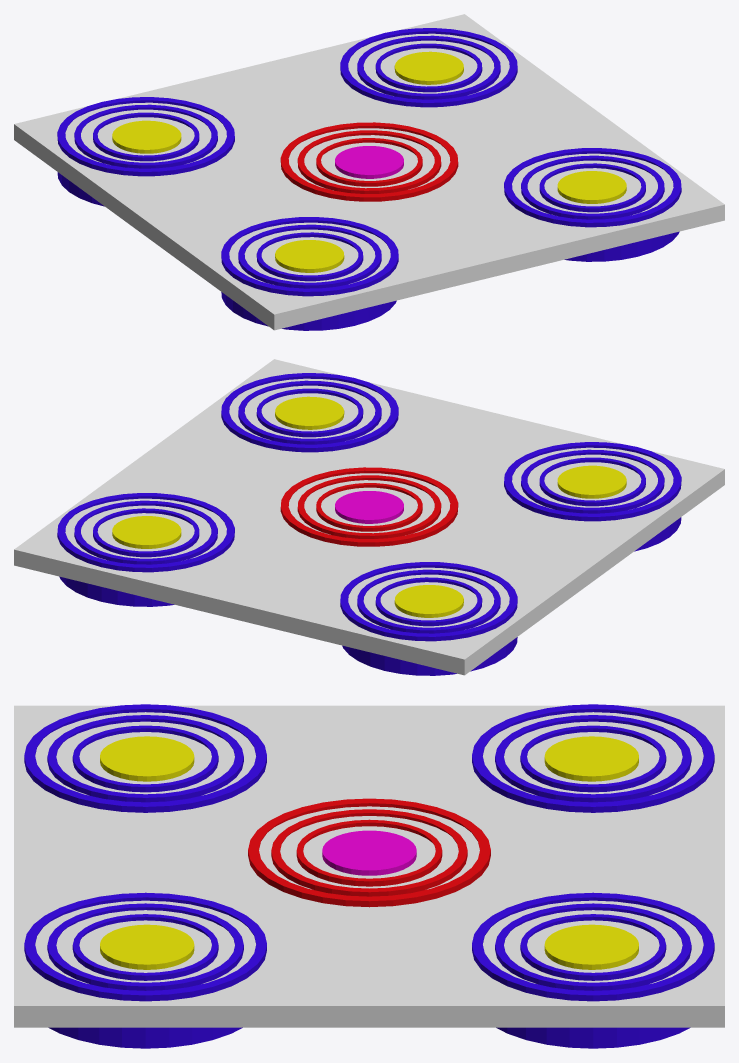
The model's file is _пол.fbx.
3 renders of one model, top to bottom at view 1: azimuth 30°, elevation 25°; view 2: azimuth 150°, elevation 25°; view 3: azimuth 270°, elevation 25°, orthographic. The views are drawn at different scales.
Visible parts, largest first — view 1: Cube, Цилиндр.004, Цилиндр.003, Цилиндр.002, Цилиндр, Цилиндр.001; view 2: Cube, Цилиндр.004, Цилиндр.003, Цилиндр.002, Цилиндр, Цилиндр.001; view 3: Cube, Цилиндр.004, Цилиндр.003, Цилиндр.002, Цилиндр, Цилиндр.001.
Boxes of the visible parts, x1=… form: Cube: x1=14, y1=14, x2=724, y2=330; Цилиндр.004: x1=57, y1=28, x2=681, y2=330; Цилиндр.003: x1=280, y1=122, x2=458, y2=201; Цилиндр.002: x1=297, y1=130, x2=441, y2=193; Цилиндр: x1=335, y1=146, x2=403, y2=178; Цилиндр.001: x1=316, y1=138, x2=422, y2=186; Cube: x1=14, y1=359, x2=724, y2=675; Цилиндр.004: x1=57, y1=373, x2=681, y2=675; Цилиндр.003: x1=280, y1=467, x2=458, y2=546; Цилиндр.002: x1=297, y1=475, x2=441, y2=538; Цилиндр: x1=335, y1=491, x2=403, y2=523; Цилиндр.001: x1=316, y1=483, x2=422, y2=531; Cube: x1=14, y1=705, x2=724, y2=1027; Цилиндр.004: x1=24, y1=704, x2=714, y2=1048; Цилиндр.003: x1=248, y1=798, x2=490, y2=907; Цилиндр.002: x1=271, y1=809, x2=467, y2=896; Цилиндр: x1=322, y1=830, x2=416, y2=875; Цилиндр.001: x1=296, y1=819, x2=442, y2=886.
Size of the model in its own units: 1504 by 124 by 1504.
